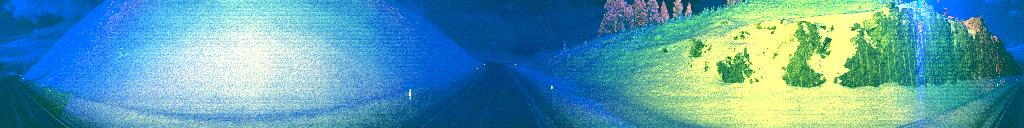pole: (404, 84, 414, 116), (550, 71, 556, 105)
